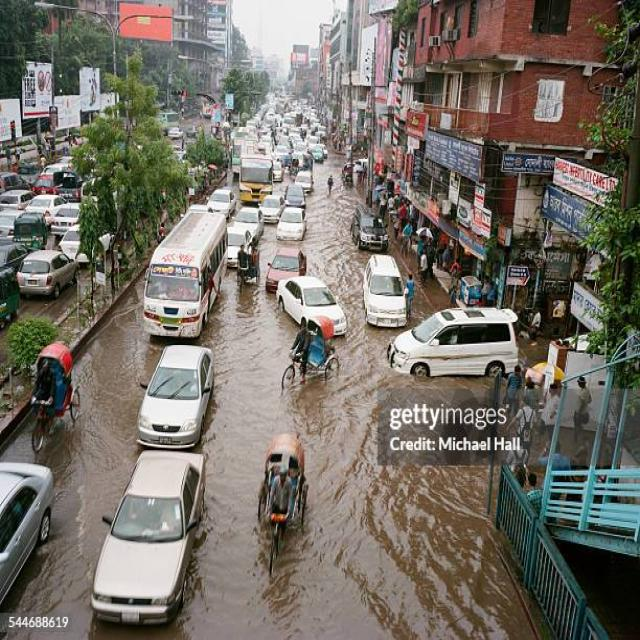car: (90, 451, 209, 617), (383, 303, 520, 382), (130, 347, 223, 435), (358, 247, 413, 332), (10, 237, 76, 303), (288, 282, 350, 340), (264, 242, 305, 293), (274, 202, 306, 244), (222, 213, 247, 265)
rickshaw: (248, 443, 310, 568), (285, 334, 335, 379)
